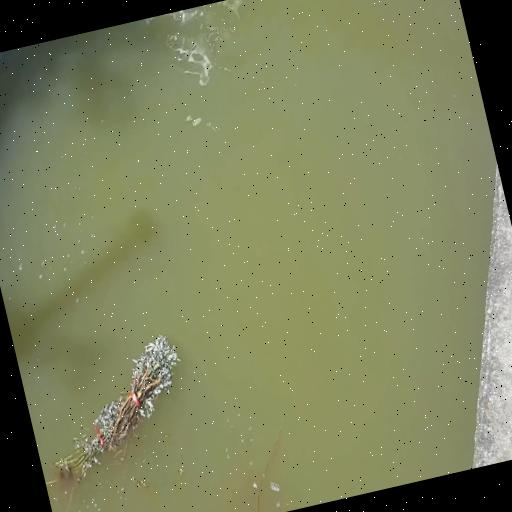twig: (45, 334, 179, 484), (256, 418, 284, 512)
